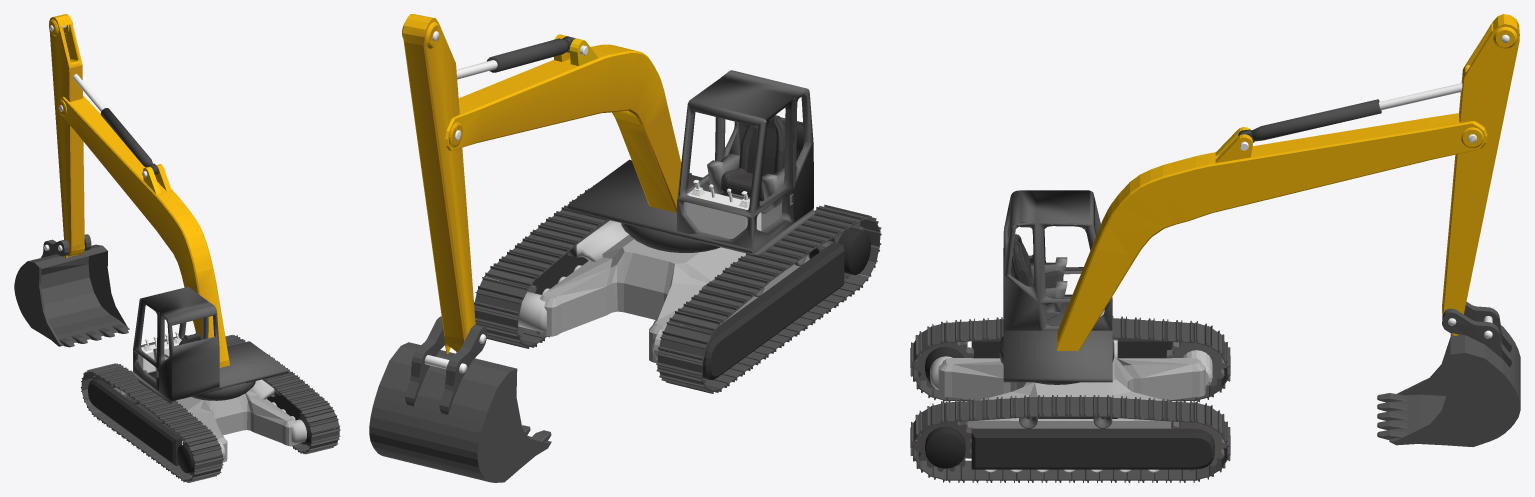
File: low_excavator.fbx
3 renders of one model, left to right at view 1: azimuth 30°, elevation 25°; view 2: azimuth 150°, elevation 25°; view 3: azimuth 270°, elevation 25°, orthographic. The views are drawn at different scales.
Visible parts, largest first — view 1: New_Game_Object.221, New_Game_Object.035, New_Game_Object.136, New_Game_Object.033, New_Game_Object.224; view 2: New_Game_Object.221, New_Game_Object.136, New_Game_Object.035, New_Game_Object.033, New_Game_Object.224; view 3: New_Game_Object.221, New_Game_Object.035, New_Game_Object.136, New_Game_Object.033, New_Game_Object.224.
Boxes of the visible parts, left/top/right/bottom form: New_Game_Object.221: left=80, top=334, right=340, bottom=482; New_Game_Object.035: left=58, top=74, right=229, bottom=367; New_Game_Object.136: left=133, top=286, right=288, bottom=403; New_Game_Object.033: left=14, top=234, right=129, bottom=347; New_Game_Object.224: left=49, top=14, right=84, bottom=258; New_Game_Object.221: left=474, top=173, right=881, bottom=393; New_Game_Object.136: left=567, top=70, right=815, bottom=254; New_Game_Object.035: left=445, top=34, right=681, bottom=212; New_Game_Object.033: left=369, top=316, right=551, bottom=482; New_Game_Object.224: left=402, top=14, right=475, bottom=354; New_Game_Object.221: left=910, top=316, right=1230, bottom=482; New_Game_Object.035: left=1057, top=83, right=1487, bottom=350; New_Game_Object.136: left=999, top=190, right=1114, bottom=384; New_Game_Object.033: left=1377, top=301, right=1520, bottom=446; New_Game_Object.224: left=1442, top=14, right=1519, bottom=335.
Size of the model in its own units: 1395 by 2758 by 3639.
